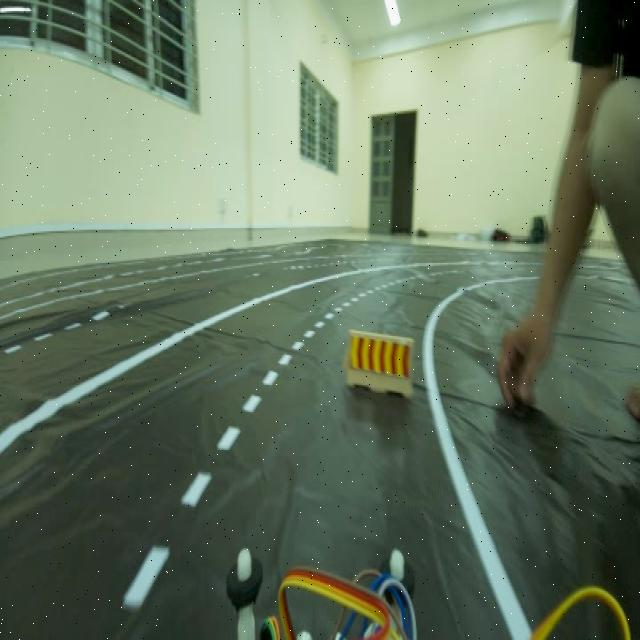roadblock: (343, 312, 418, 402)
